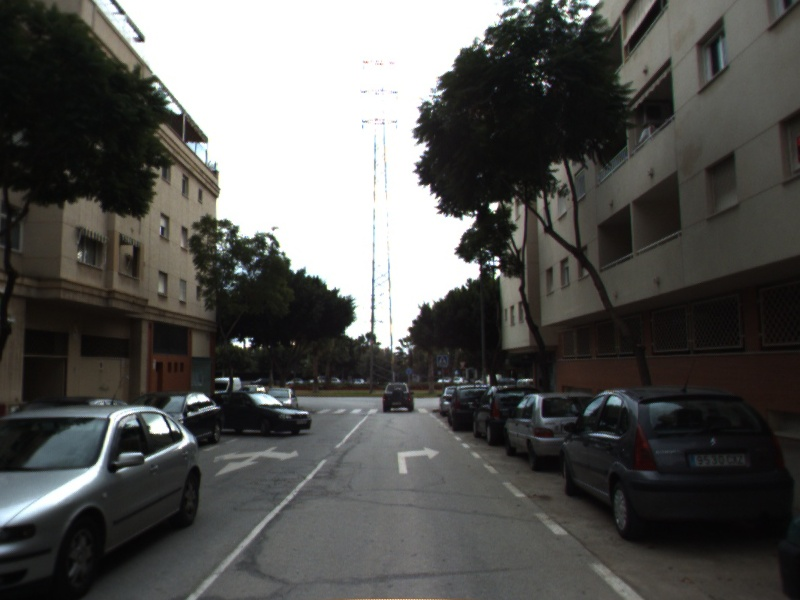RIGHT: (395, 443, 443, 477)
